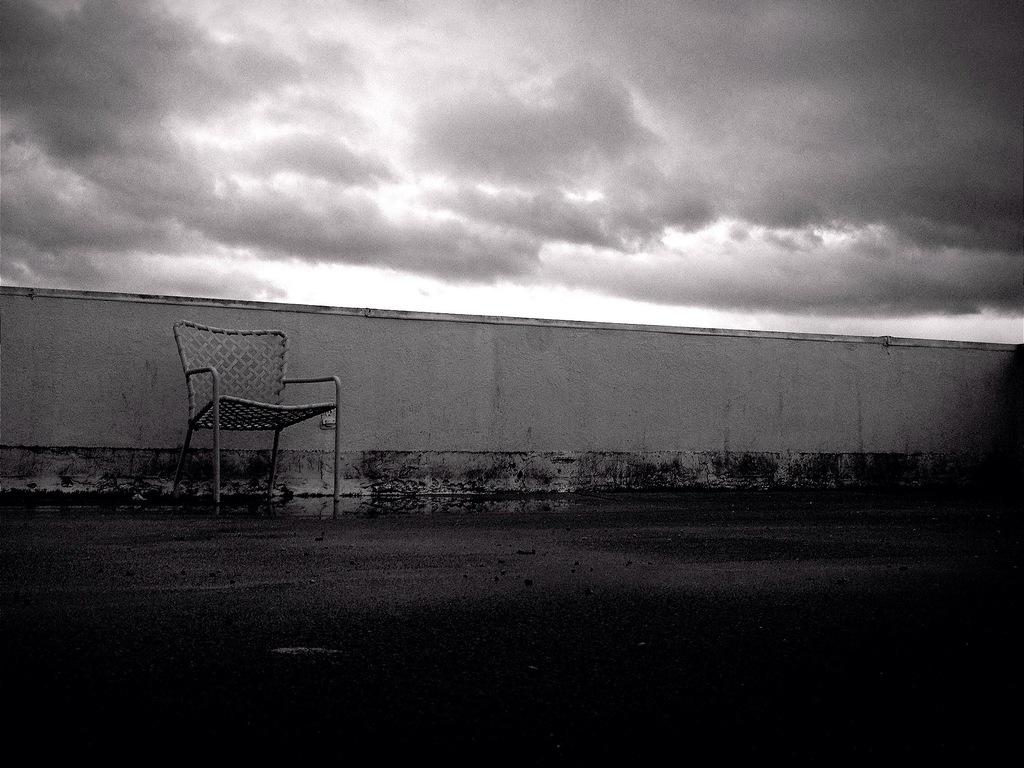Chair: (156, 345, 350, 534)
